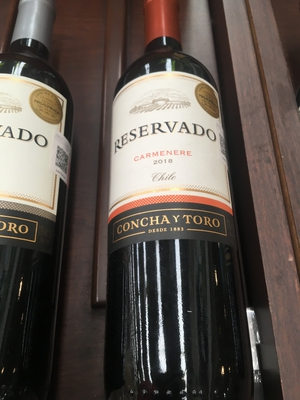reservado carmenere: (103, 11, 256, 399)
